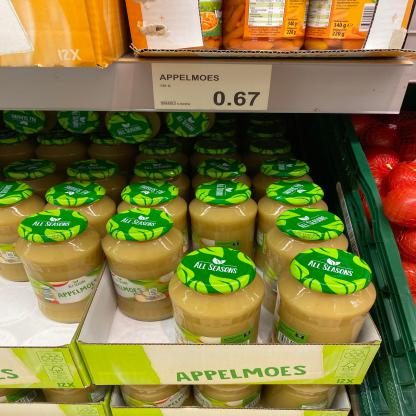prtg: (153, 64, 273, 110)
